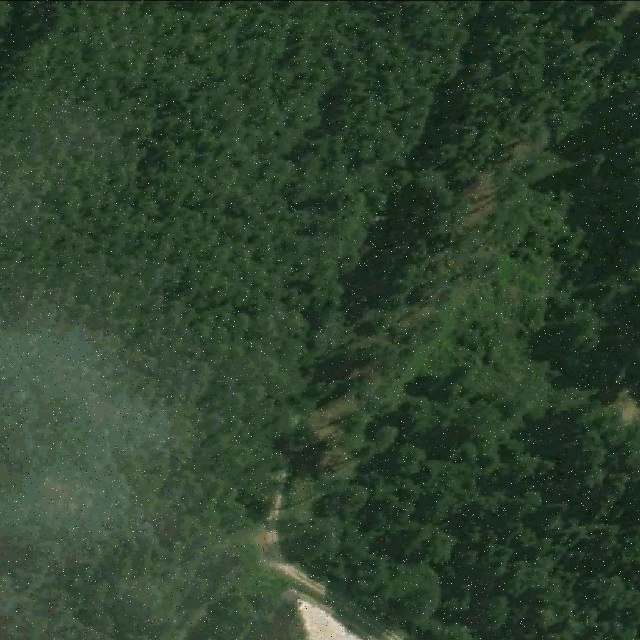vegetation: (0, 2, 638, 640)
